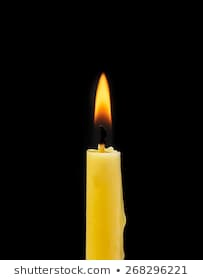Fire: (89, 70, 115, 142)
